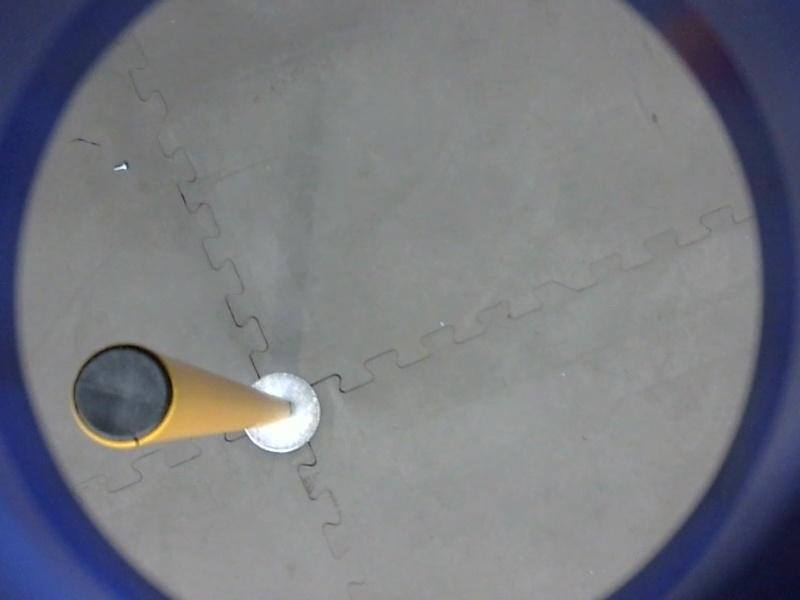tip: (59, 335, 180, 456)
